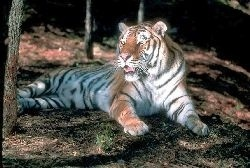tigre: (15, 18, 212, 138)
